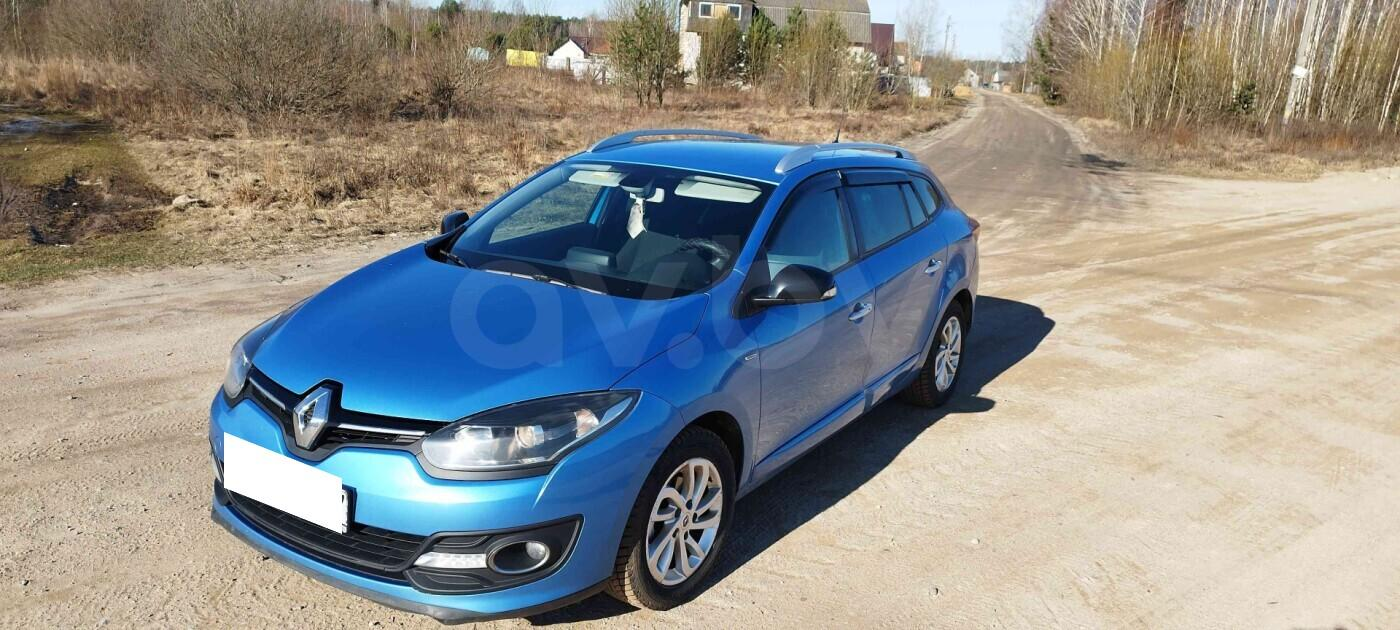Megane_2014-2016: (204, 125, 982, 614)
